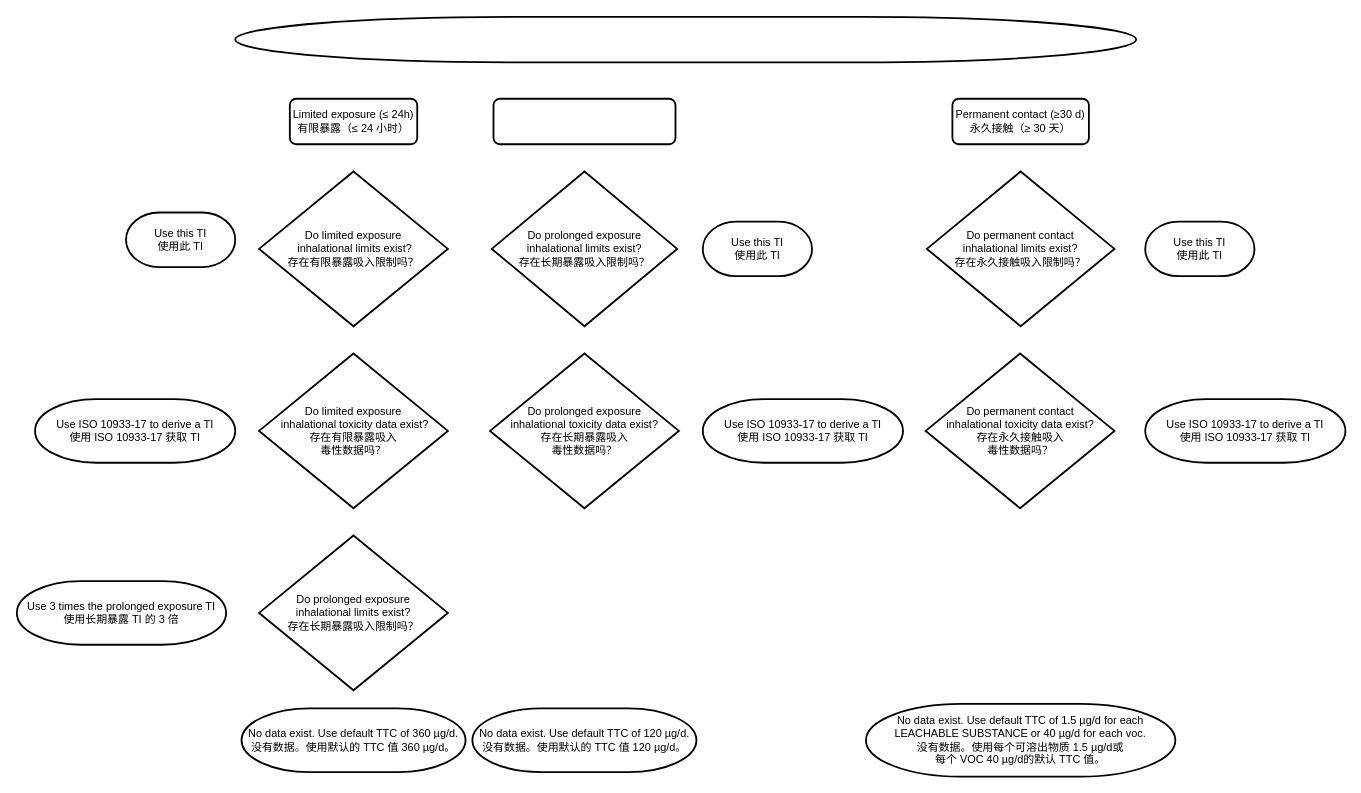
This 1361x793 diagram has some shape labels left out. Each missing label, with the box of its shape:
Duration of PATIENT exposure to the MEDICAL DEVICE 患者接触医疗器械的时间: (234, 15, 1137, 63)
Prolonged exposure (> 24h, < 30d) 长期暴露（> 24 小时，< 30 天）: (492, 97, 676, 145)
